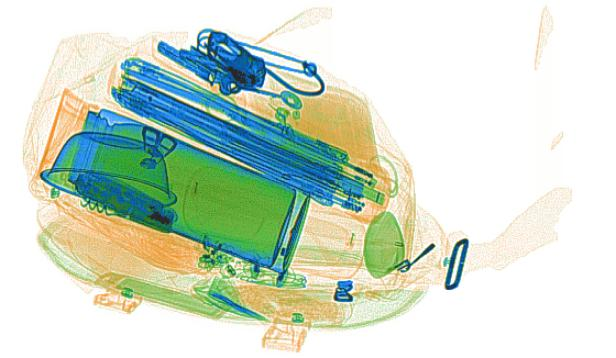knife: (71, 168, 179, 235)
